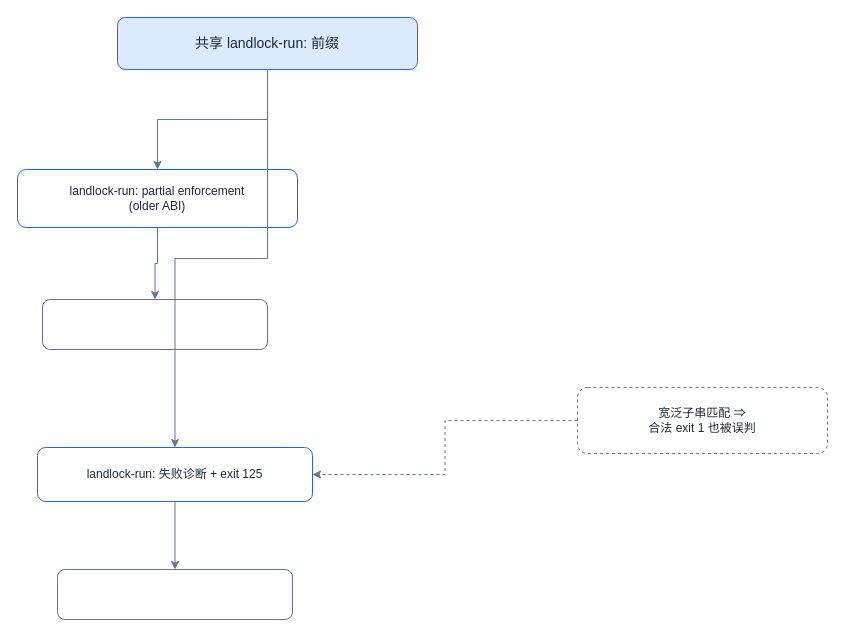
Image size: 845x637. Some labels were removed from this diagram. Here are the shapes that lost their labels. From the top down, the centre of each, then its label:
At (155,324): "✓ 照常执行子进程".
At (174,594): "✗ 子进程从未执行".
